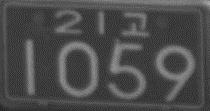0: (56, 39, 100, 99)
1: (14, 39, 48, 96), (89, 9, 114, 36)
2: (54, 7, 83, 35)
5: (106, 41, 147, 100)
9: (154, 43, 196, 101)
고: (120, 9, 150, 37)
